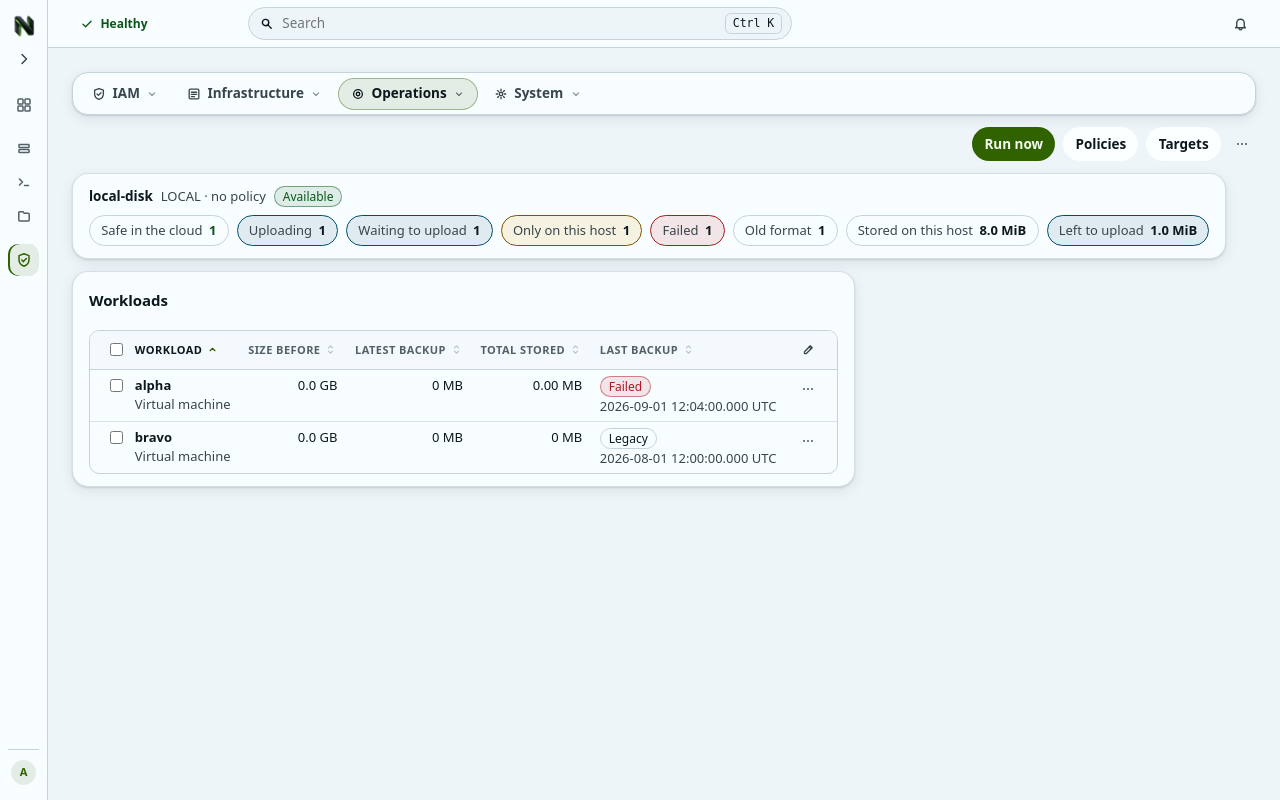
Test case: Backups page › shows protection states, repository statistics, consistency, and restore-point detail
Check: the text "Safe in the cloud 1" is shown, box [89,215,228,246]
Check: the text "Only on this host 1" is shown, box [501,215,642,246]
Step 1. Click the button named "more backup actions" → (1242, 144), box [1229,131,1256,158]
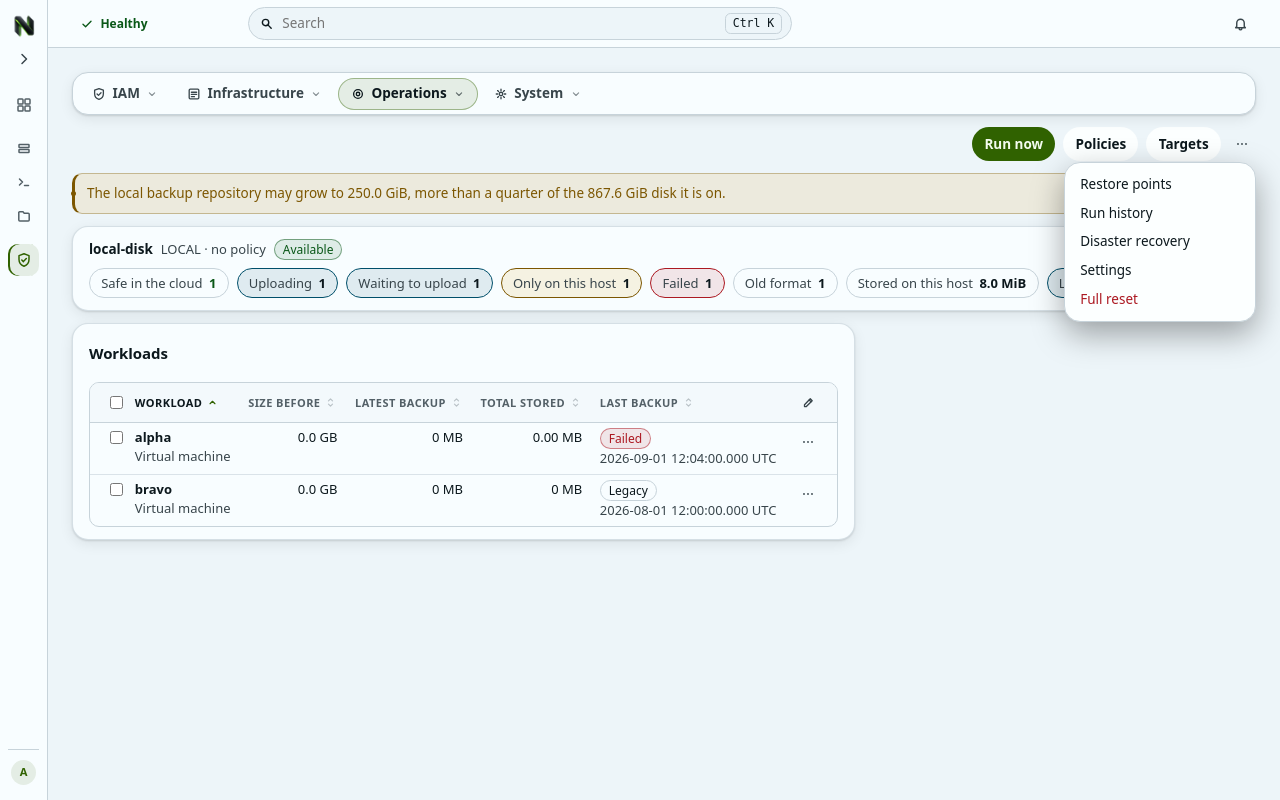
Step 2. Click the menu item "Restore points" → (1160, 184), box [1073,171,1247,198]
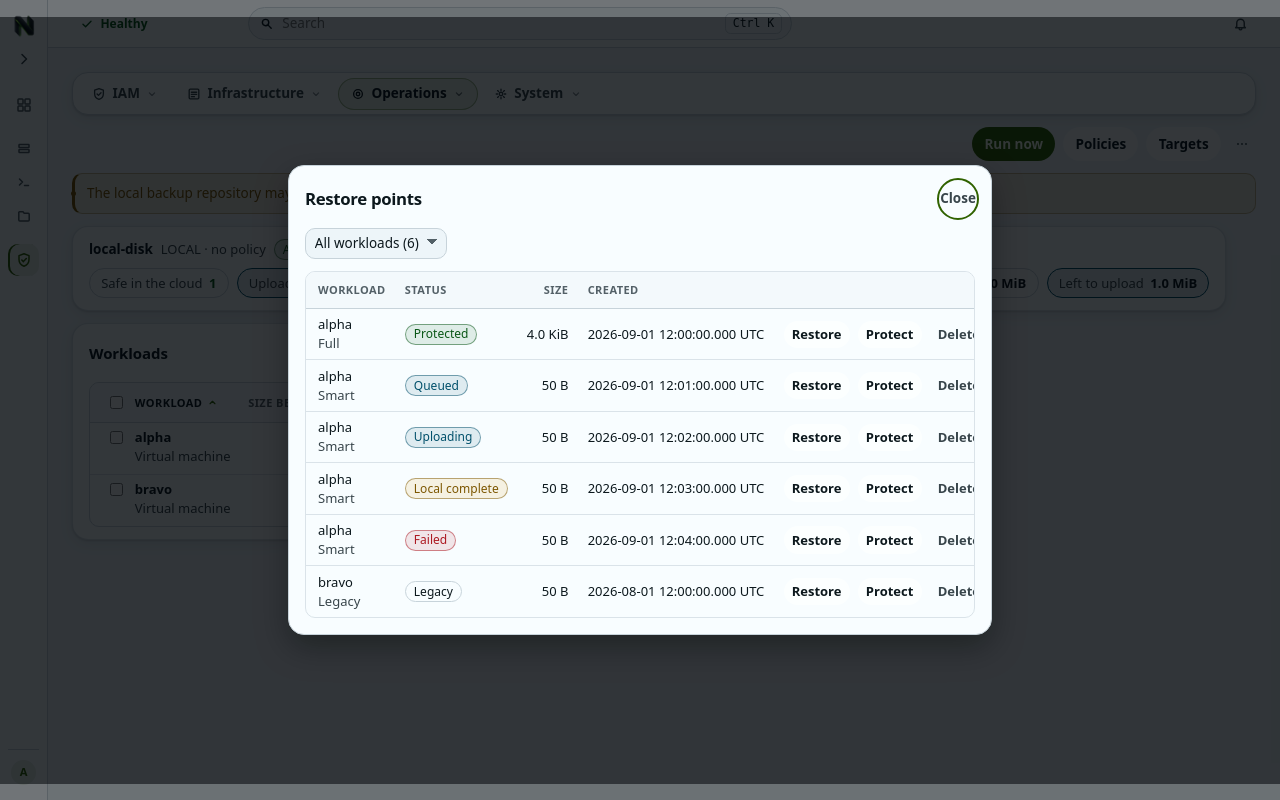
Check: the text "Queued" is shown, box [405,375,468,396]
Check: the text "Uploading" is shown, box [405,427,481,448]
Check: the text "Failed" is shown, box [405,530,456,550]
Step 3. Click the button with aria-label "restore or verify" → (817, 334), box [784,321,850,348]
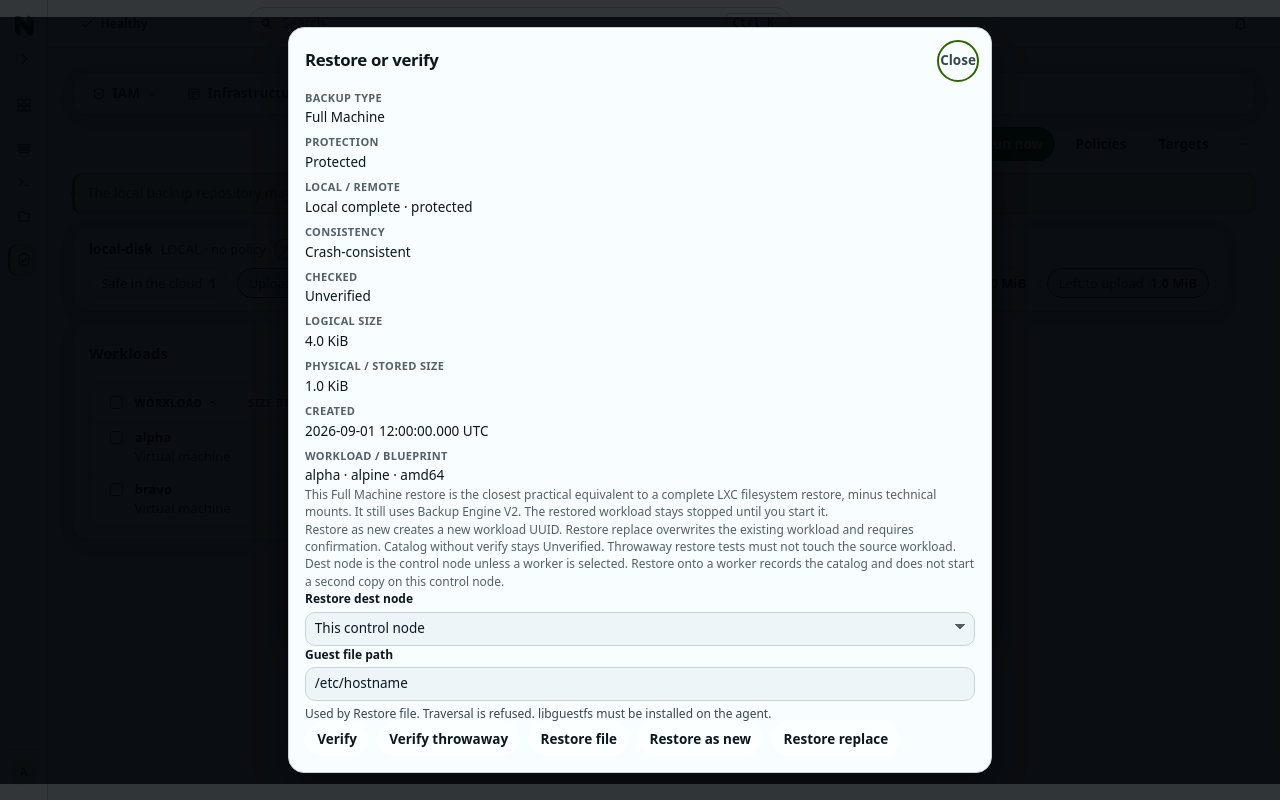
Check: the text "Full Machine" is shown, box [305,108,385,126]
Check: the text "Protected" is shown, box [305,153,366,171]
Check: the text "Crash-consistent" is shown, box [305,243,411,261]
